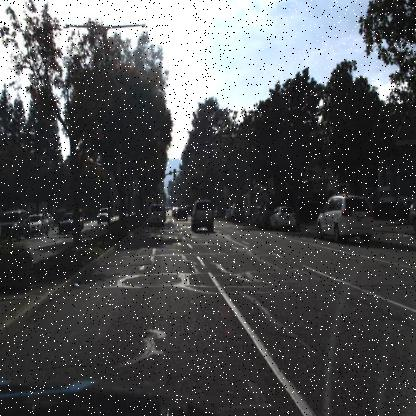car: (316, 192, 376, 242), (1, 211, 33, 244), (190, 196, 216, 232), (58, 211, 87, 236), (269, 208, 299, 230), (257, 199, 277, 230), (146, 202, 164, 228), (228, 200, 245, 223), (29, 214, 47, 235), (97, 204, 110, 226), (174, 206, 188, 222), (185, 203, 195, 215)
